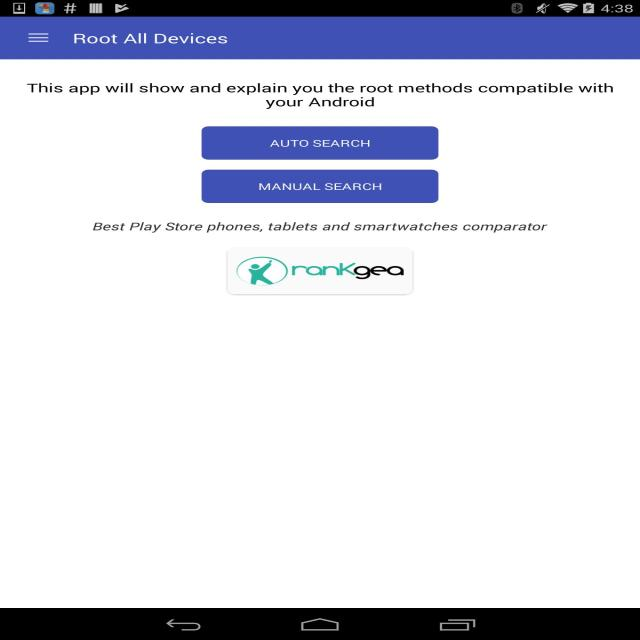button: (200, 125, 440, 161), (196, 169, 439, 204), (19, 29, 56, 48)
heading: (73, 30, 228, 49)
image: (228, 249, 413, 296)
text: (25, 82, 619, 110), (86, 220, 548, 234)
